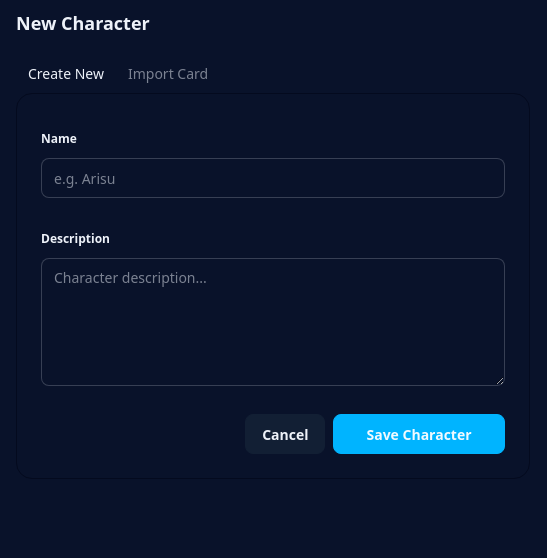
Test: CharacterForm Component › shows error message when name is empty
Clear the field labelled "Name" at (273, 178), box [41,158,504,198]
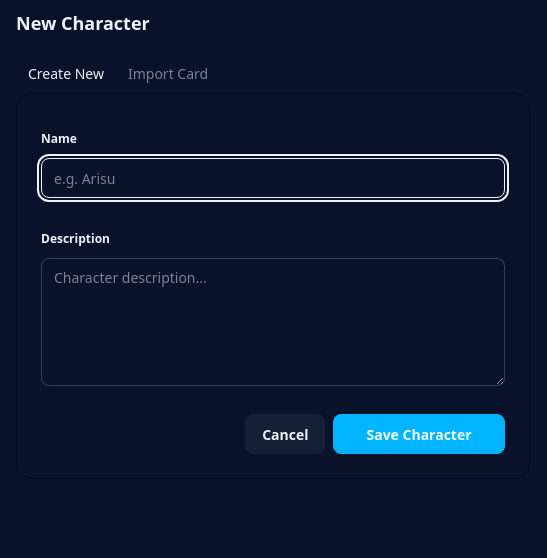
Click the button "Save Character" at (419, 434), box [334,414,505,454]
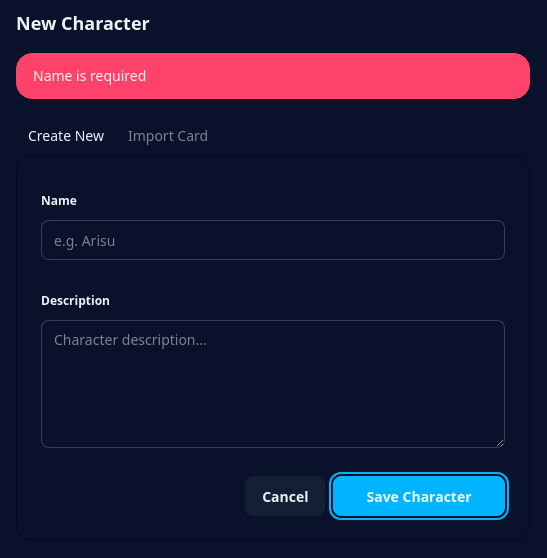
expect the element with class "alert-error" is shown: met, box [16,53,530,99]
expect the element with class "alert-error" reads "Name is required": met, box [33,66,146,85]
